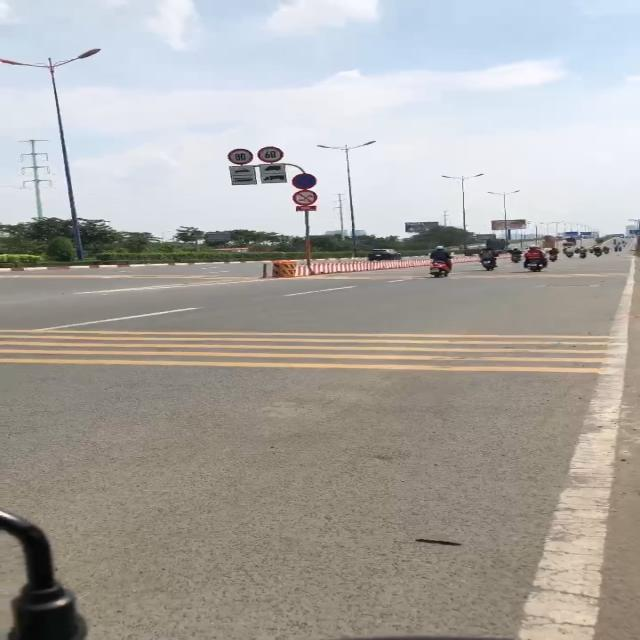Bien bao toc do toi da cho phep: (256, 144, 286, 164), (223, 147, 256, 165)
